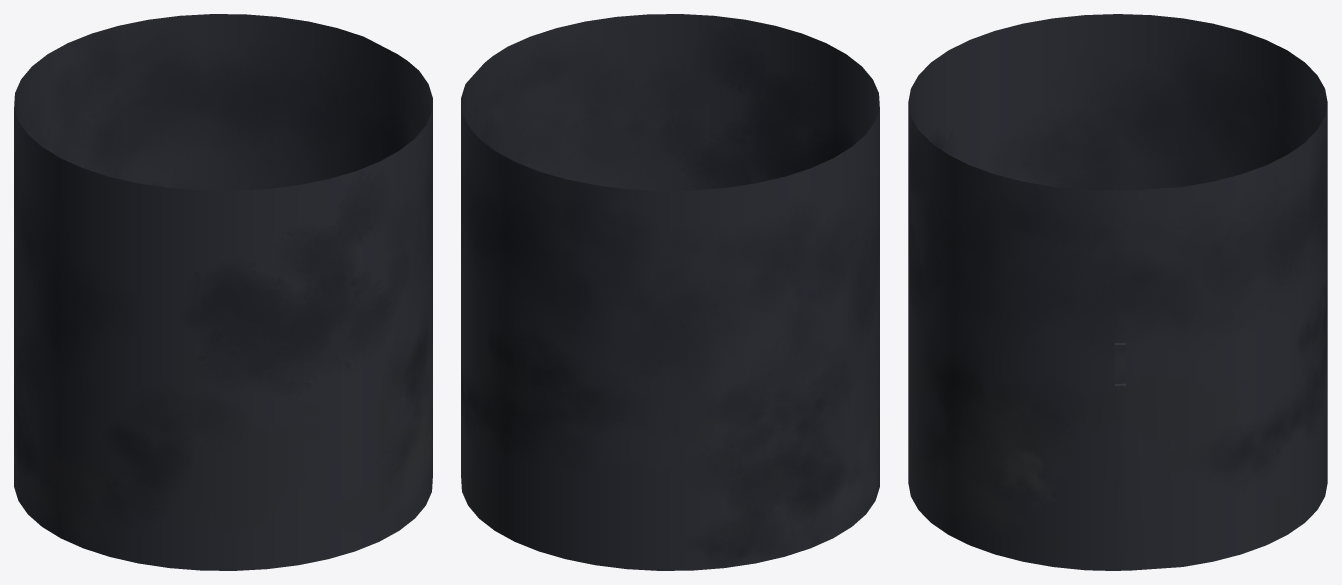
Rendered from TowerRoom.fbx.
3 views of the same model, side by side, from view 1: azimuth 30°, elevation 25°; view 2: azimuth 150°, elevation 25°; view 3: azimuth 270°, elevation 25° (orthographic).
Visible parts, largest first — view 1: Cylinder; view 2: Cylinder; view 3: Cylinder.
Part boxes in pixels (x1,y1,x2,y2): Cylinder: (14, 14, 432, 570); Cylinder: (461, 14, 879, 570); Cylinder: (908, 14, 1327, 570).
Size of the model in its own units: 2248 by 2221 by 2221.
